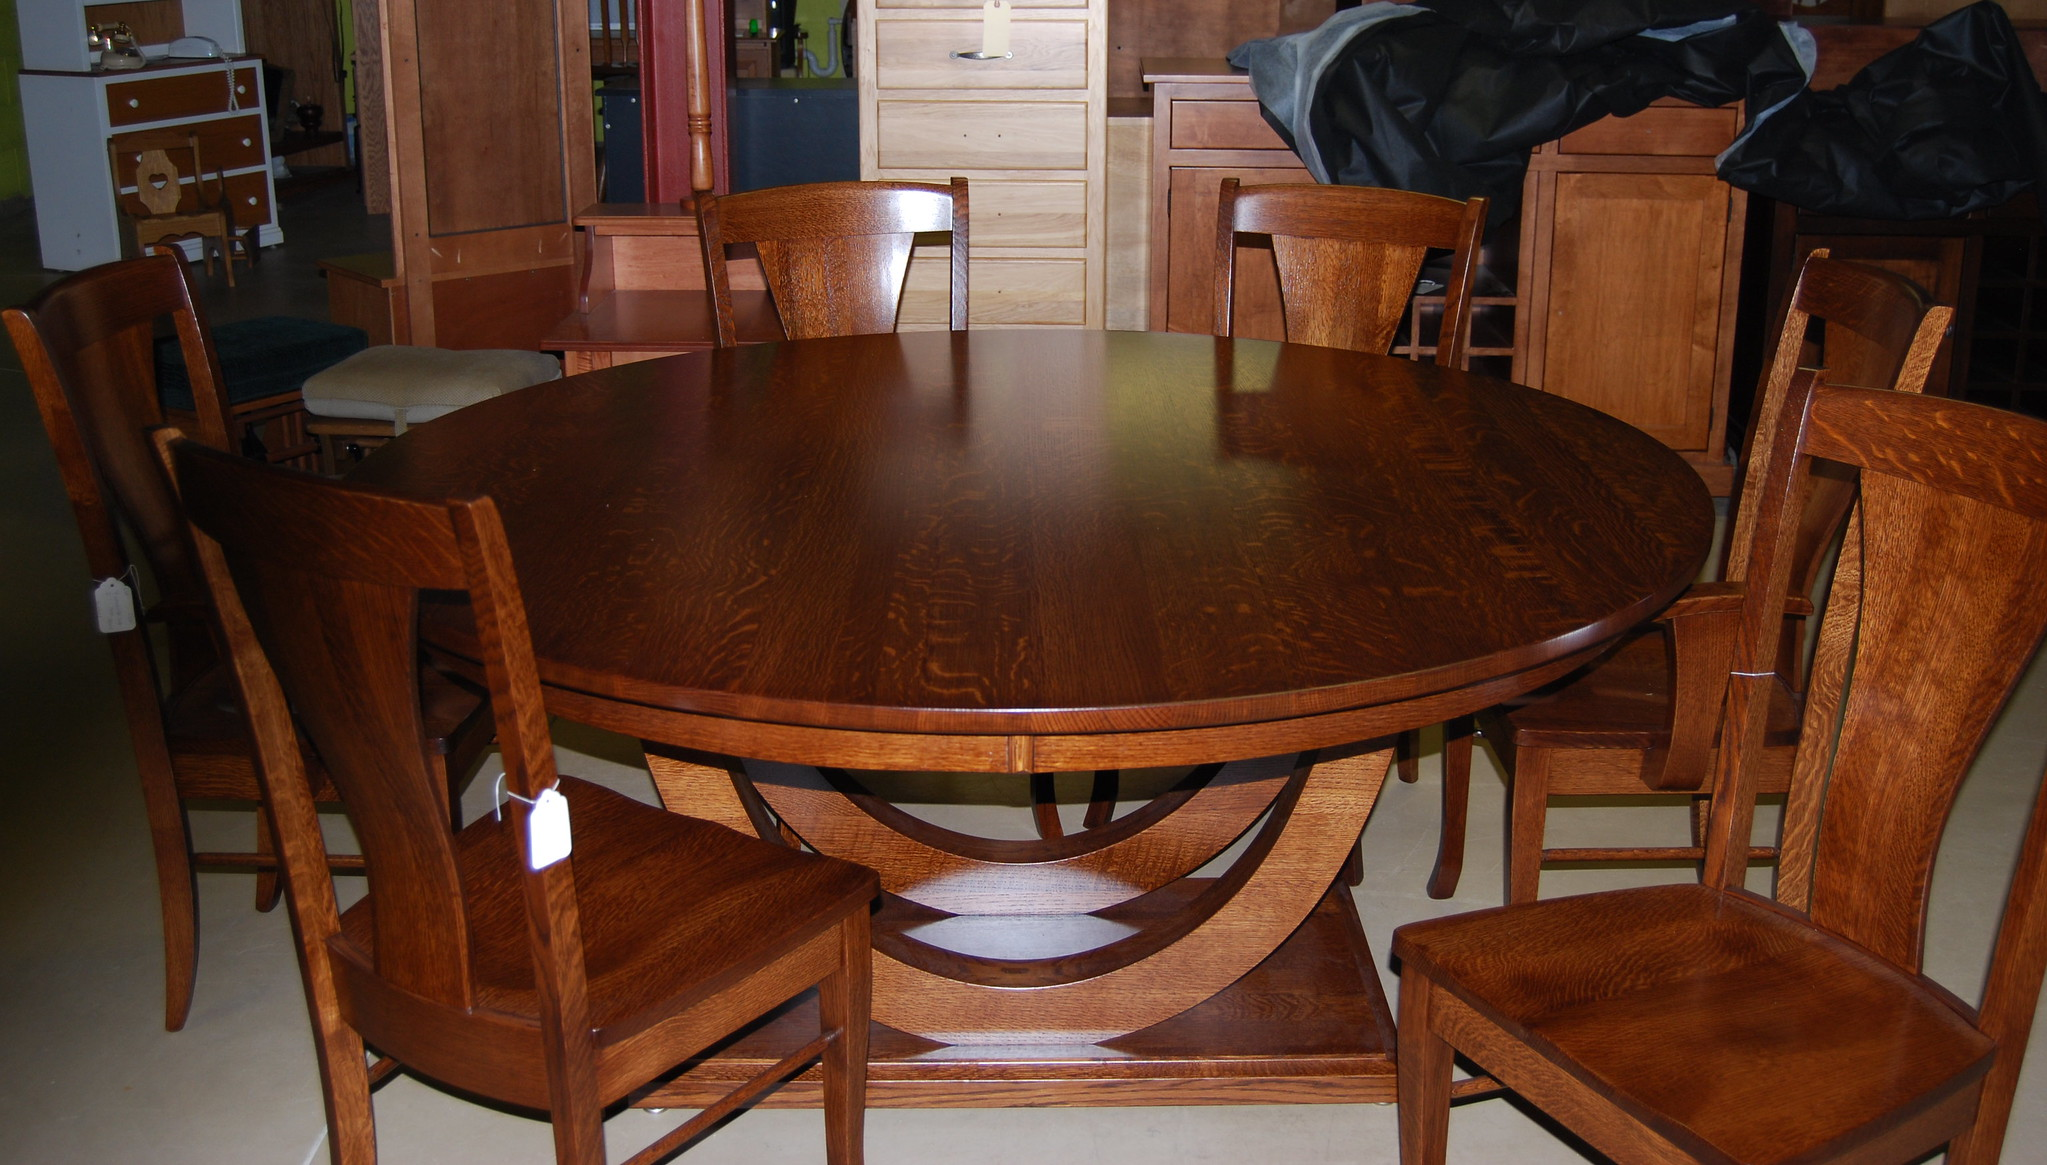chair: (155, 437, 943, 1165), (1369, 375, 2039, 1165)
dining table: (319, 305, 1700, 1117)
